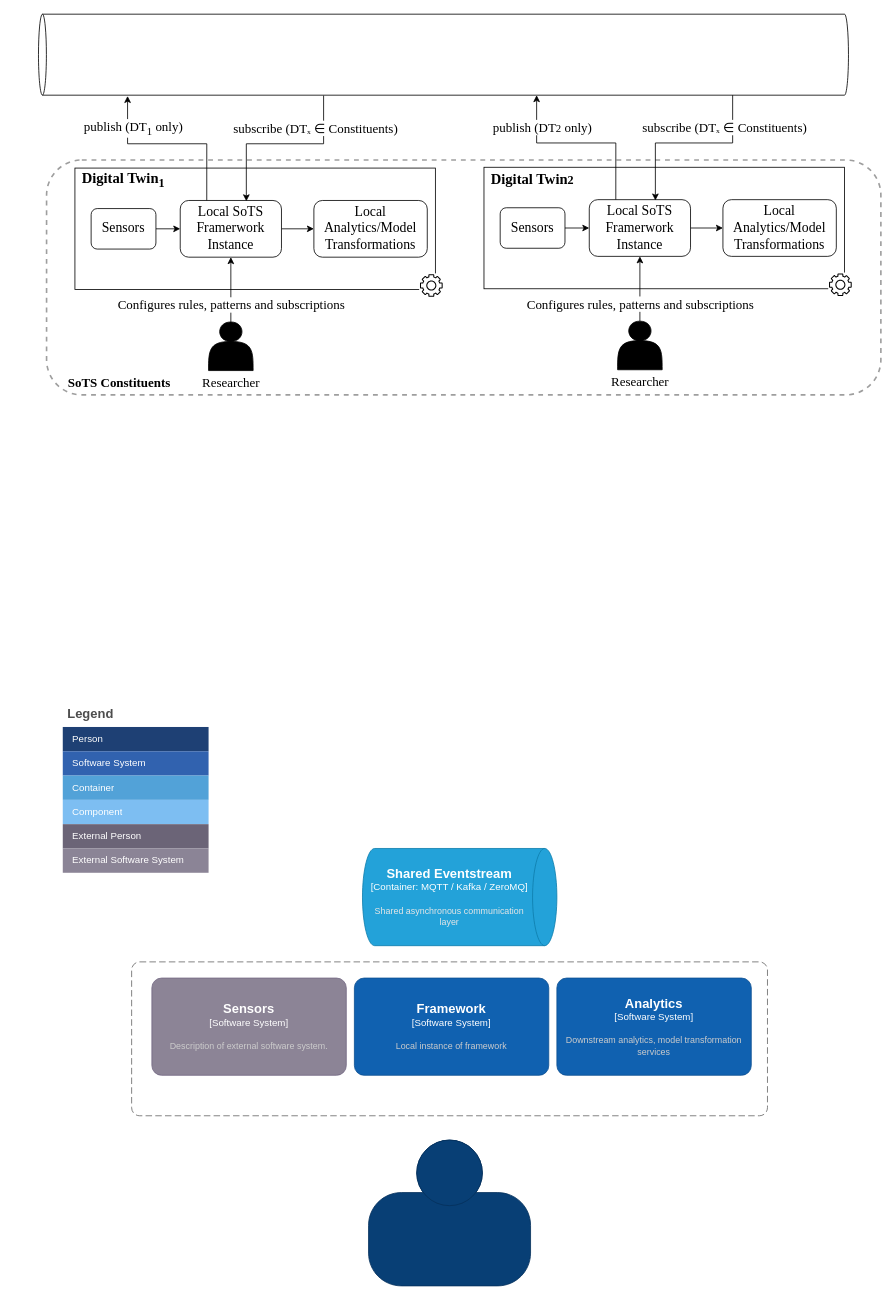
This 895x1300 diagram has some shape labels left out. The shapes that lost their labels are listed below. From the top down, each one's box as (x1, y1, x2, y2) in pixels, then its label:
(38, 13, 848, 95): Shared Eventstream Shared asynchronous communication layer
(131, 961, 767, 1116): Digital Twin [Container]
(368, 1139, 531, 1286): Researcher [Person] Configures rules, patterns and subscriptions
